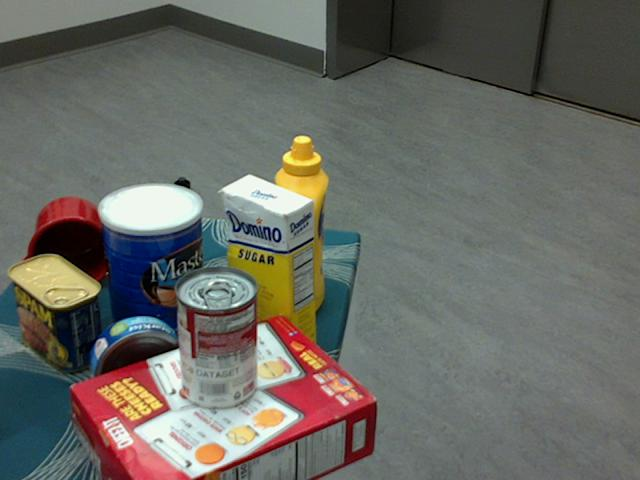cracker_box: (72, 316, 377, 479)
large_marker: (174, 177, 194, 273)
master_chef_can: (97, 183, 205, 348)
mug: (18, 197, 114, 292)
mustard_bottle: (272, 135, 327, 314)
potted_meat_can: (7, 252, 103, 371)
sugar_box: (222, 173, 316, 365)
tomato_soup_can: (173, 267, 257, 410)
tuna_fish_can: (90, 316, 187, 410)
